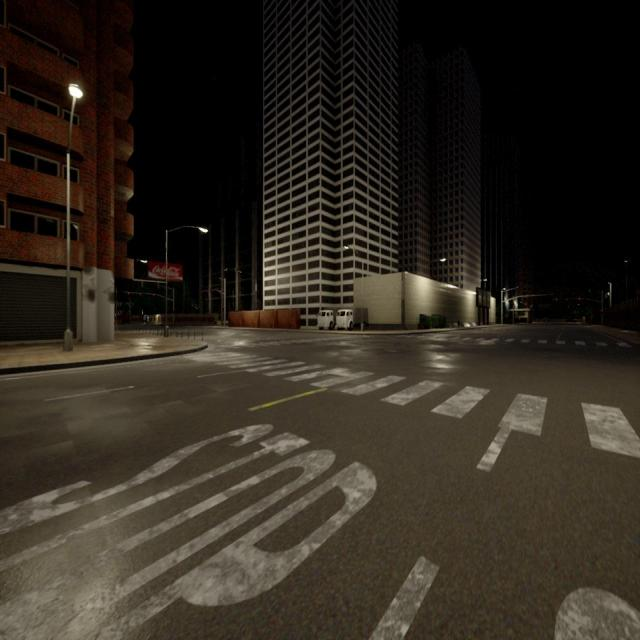Pedestrian: (458, 319, 460, 328)
Vehicle: (336, 308, 368, 330), (318, 308, 340, 330)
traffic_light: (128, 292, 130, 298), (601, 309, 603, 314), (139, 293, 142, 296), (152, 293, 155, 296), (555, 299, 558, 301), (566, 298, 568, 301), (173, 310, 174, 314), (578, 298, 580, 300)
